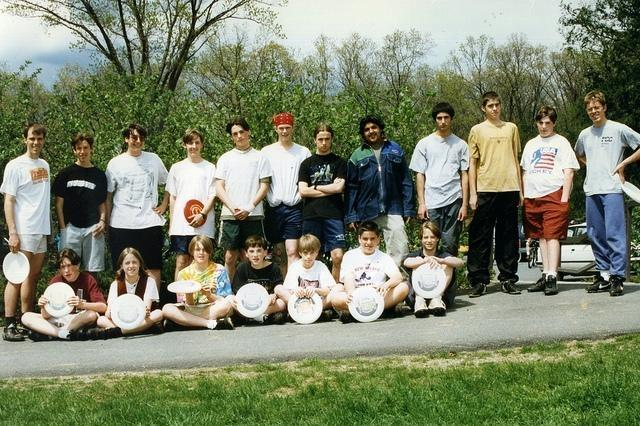car: (528, 223, 600, 272)
